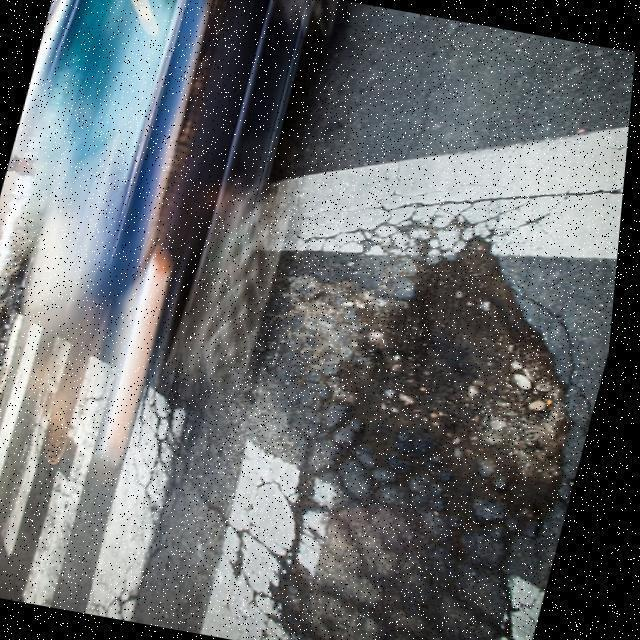Pothole: (275, 213, 587, 552)
